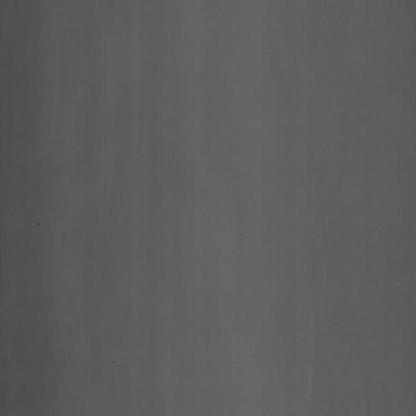inclusion: (31, 202, 45, 233)
